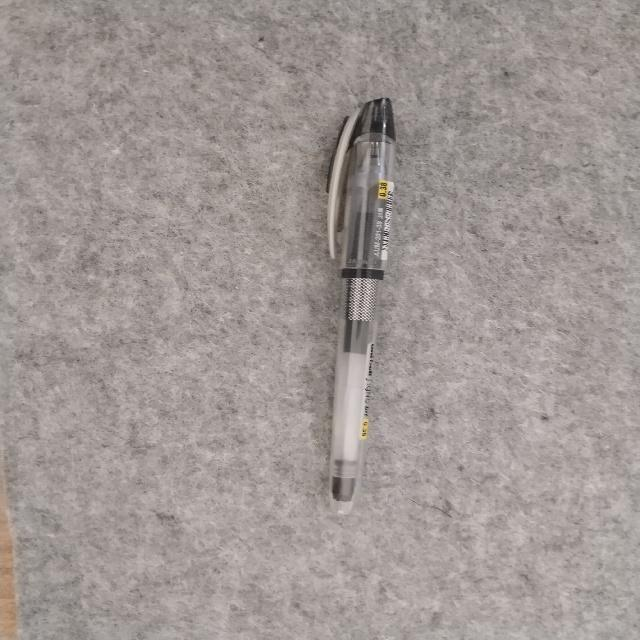pen: (328, 98, 394, 514)
